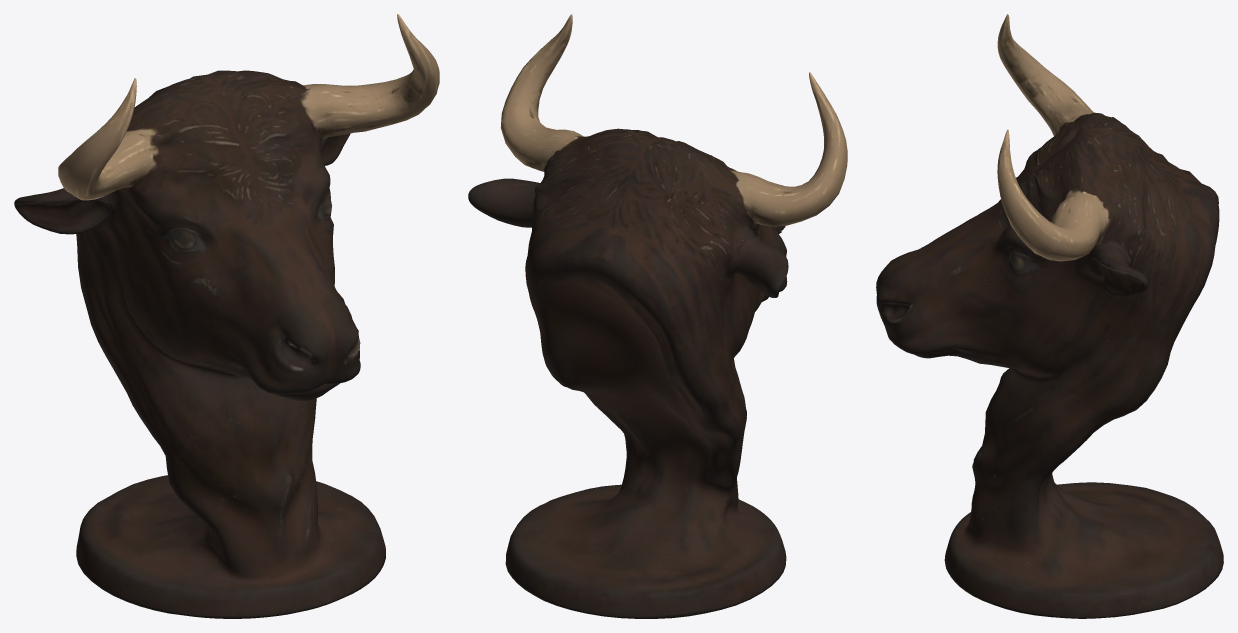
File: bull-head.glb
3 renders of one model, left to right at view 1: azimuth 30°, elevation 25°; view 2: azimuth 150°, elevation 25°; view 3: azimuth 270°, elevation 25°, orthographic. The views are drawn at different scales.
Visible parts, largest first — view 1: bull_head; view 2: bull_head; view 3: bull_head.
Boxes of the visible parts, x1,y1,x2,y2 form: bull_head: (14, 14, 439, 618); bull_head: (468, 14, 847, 618); bull_head: (876, 14, 1223, 618).
Bounding box in the file's own units: 0.3063 × 0.433 × 0.2808.
Materials: 1 (1 with a texture image).
